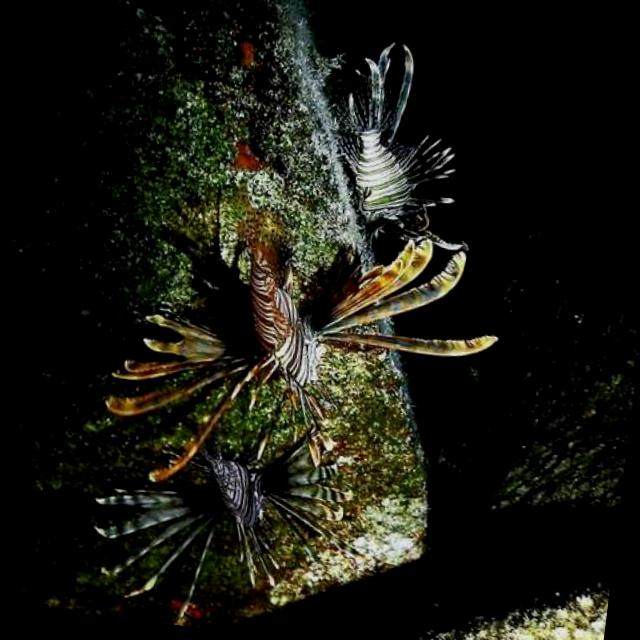Aslan Baligi: (92, 193, 490, 514), (73, 403, 392, 640), (304, 28, 464, 254)
